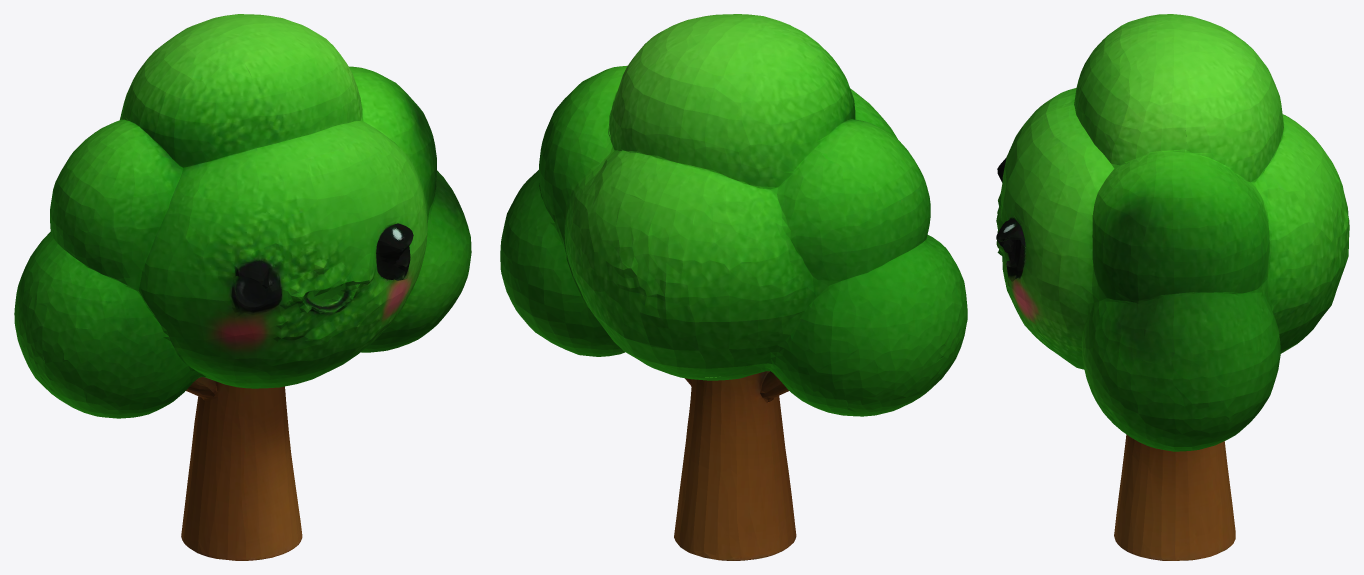
The model's file is tree.glb.
3 renders of one model, left to right at view 1: azimuth 30°, elevation 25°; view 2: azimuth 150°, elevation 25°; view 3: azimuth 270°, elevation 25°, orthographic.
Visible parts, largest first — view 1: geometry_0; view 2: geometry_0; view 3: geometry_0.
Part boxes in pixels (box(x1,y1,x2,y2)): geometry_0: box(14, 14, 471, 560); geometry_0: box(500, 14, 967, 560); geometry_0: box(996, 14, 1349, 560).
Bounding box in the file's own units: 0.8908 × 1 × 0.6321.
1 material, 1 textured.
